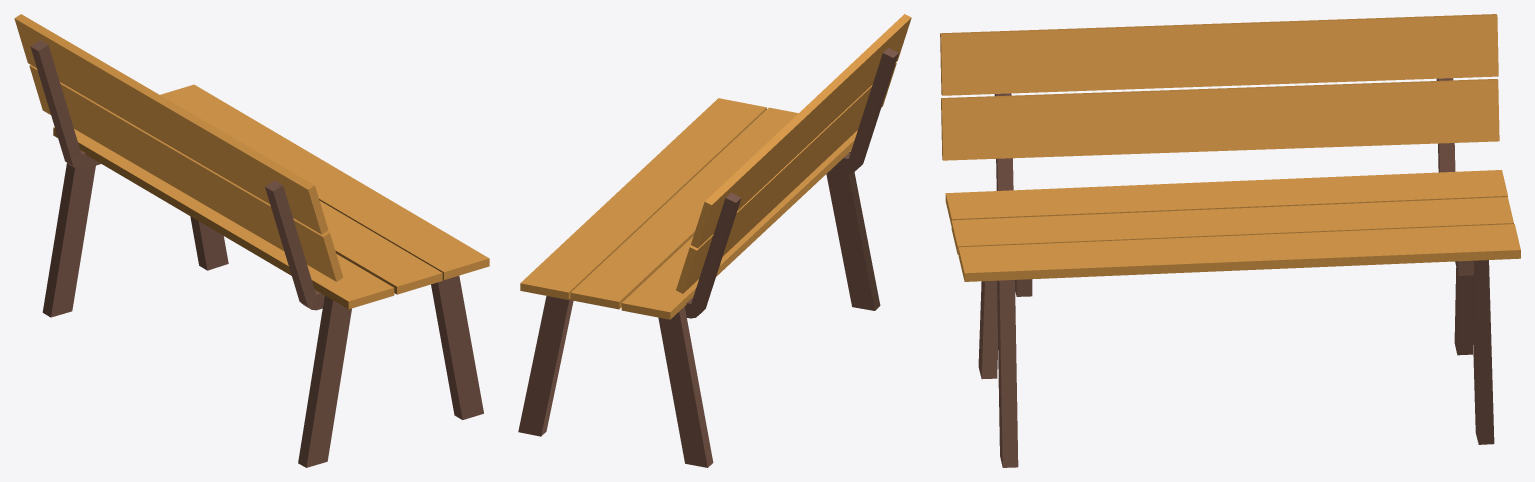
File: bench.glb
3 renders of one model, left to right at view 1: azimuth 30°, elevation 25°; view 2: azimuth 150°, elevation 25°; view 3: azimuth 270°, elevation 25°, orthographic. The views are drawn at different scales.
Visible parts, largest first — view 1: Bench; view 2: Bench; view 3: Bench.
Boxes of the visible parts, x1,y1,x2,y2 form: Bench: (14,14,489,467); Bench: (518,14,911,467); Bench: (940,14,1520,467).
Bounding box in the file's own units: 0.3811 × 0.4321 × 0.6933.
